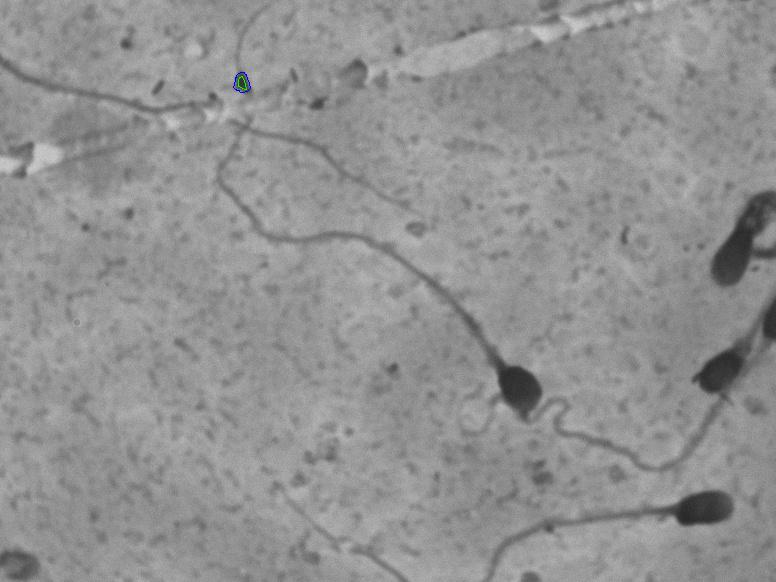Abnormal: (206, 127, 565, 419)
